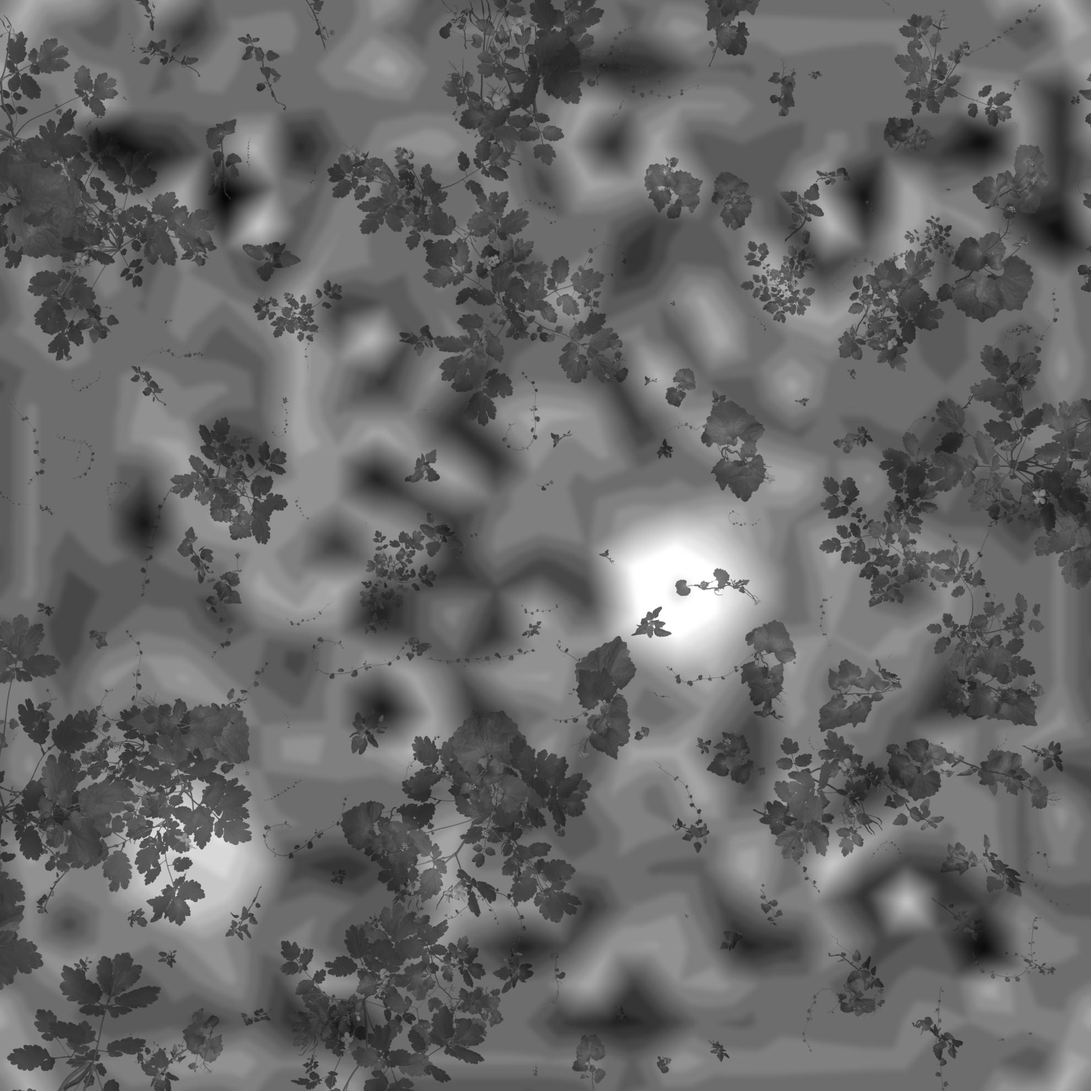landmine: (600, 511, 758, 658), (107, 785, 255, 920)
